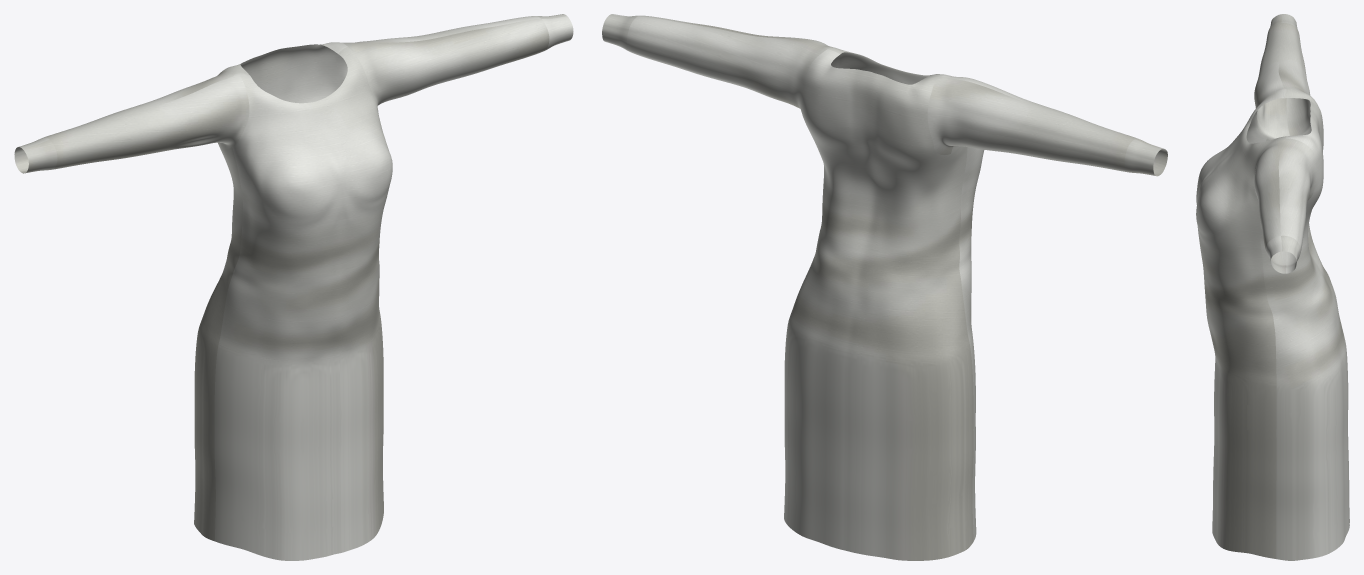
File: Huku04.fbx
The picture shows the model from 3 angles, left to right: view 1: azimuth 30°, elevation 25°; view 2: azimuth 150°, elevation 25°; view 3: azimuth 270°, elevation 25°; orthographic projection. The views are drawn at different scales.
Parts seen in each view (by area): view 1: Huku04; view 2: Huku04; view 3: Huku04.
Boxes of the visible parts, left/top/right/bottom form: Huku04: left=14, top=14, right=573, bottom=560; Huku04: left=602, top=14, right=1167, bottom=560; Huku04: left=1196, top=14, right=1349, bottom=560.
Bounding box in the file's own units: 110 × 89.69 × 30.
Materials: 1 (1 with a texture image).
